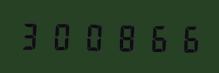eight: (108, 19, 137, 53)
six: (138, 20, 167, 54), (168, 21, 197, 54)
three: (17, 18, 46, 51)
zero: (47, 18, 76, 52), (78, 19, 107, 52)
